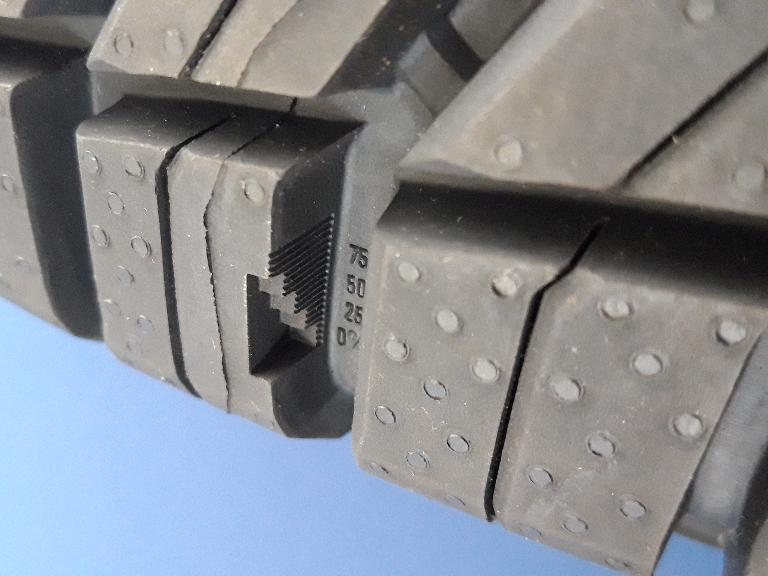temoin:100: (243, 239, 336, 387)
